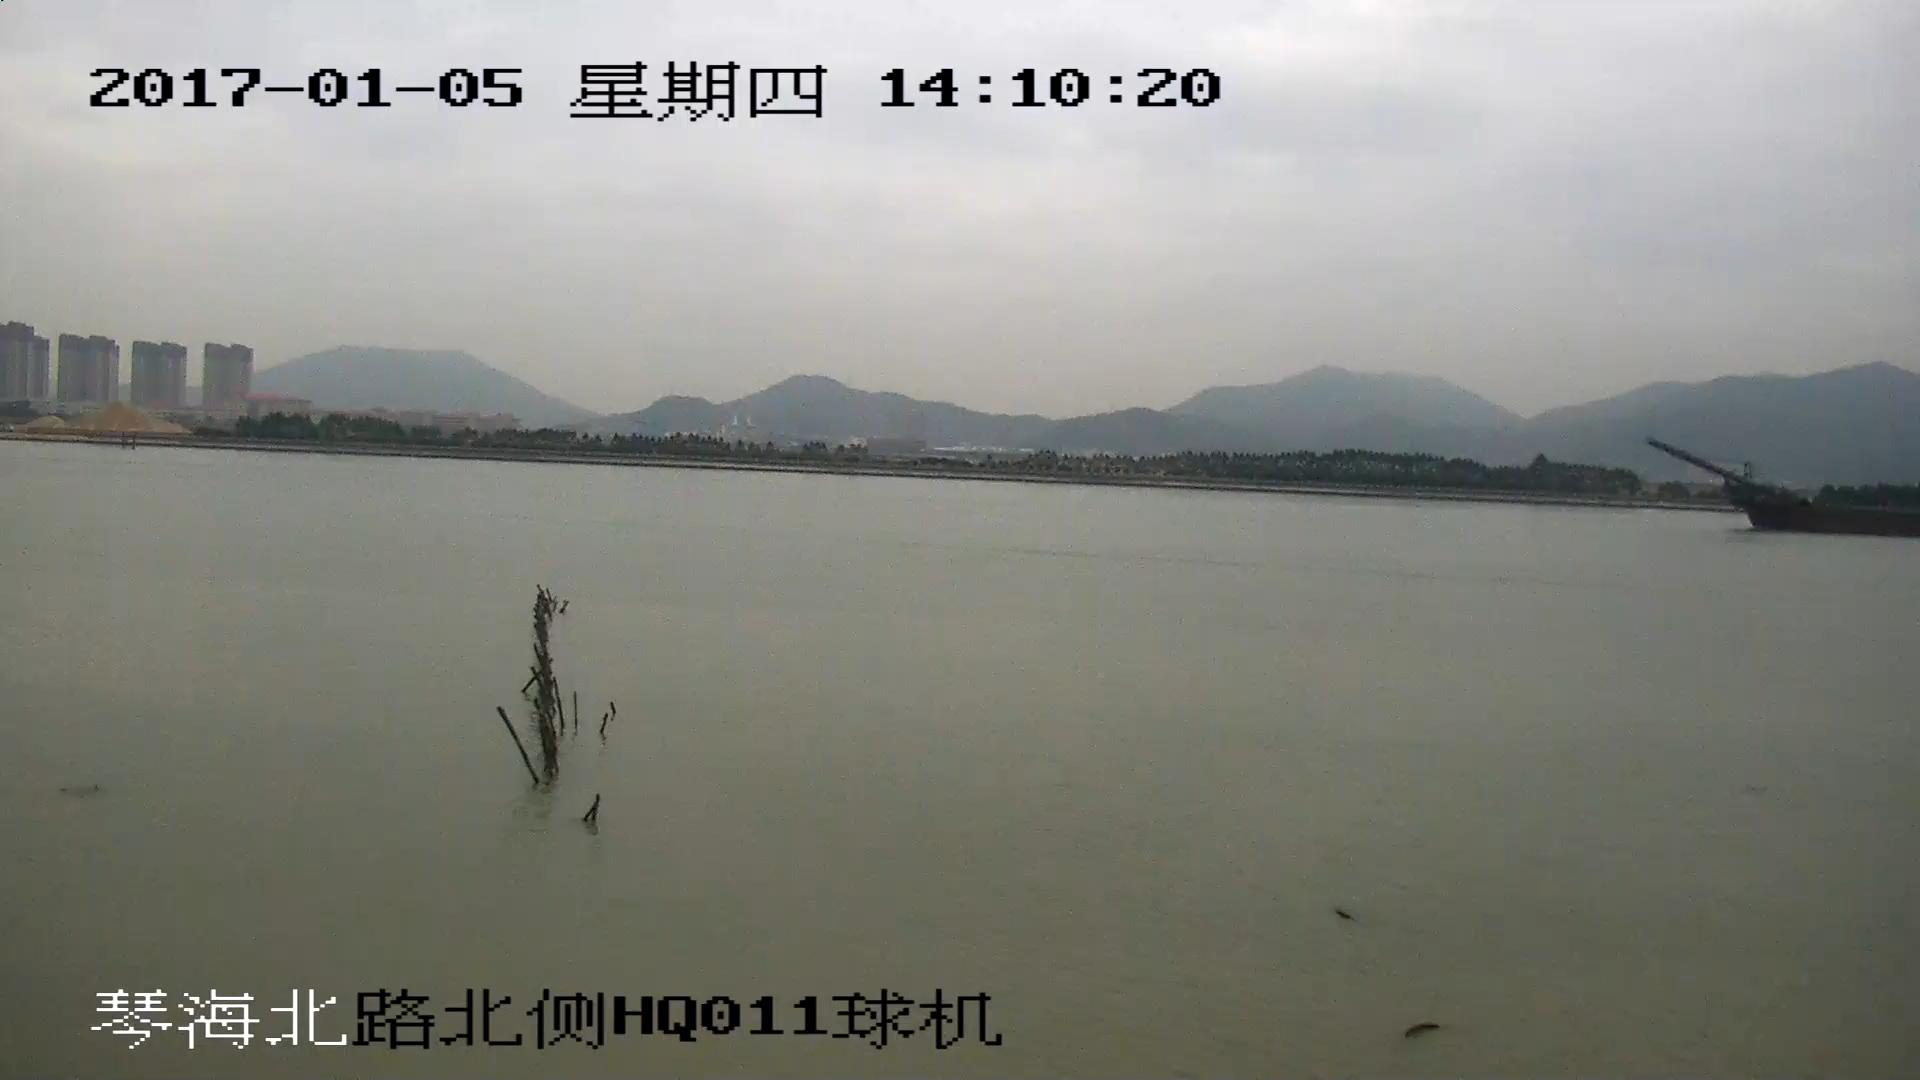bulk cargo carrier: (1647, 441, 1920, 535)
